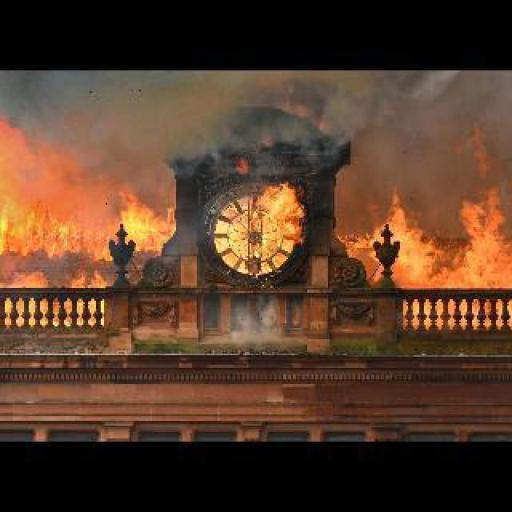smoke: (72, 69, 434, 174), (350, 186, 510, 288), (5, 187, 166, 253), (214, 282, 288, 347), (250, 179, 306, 245)
